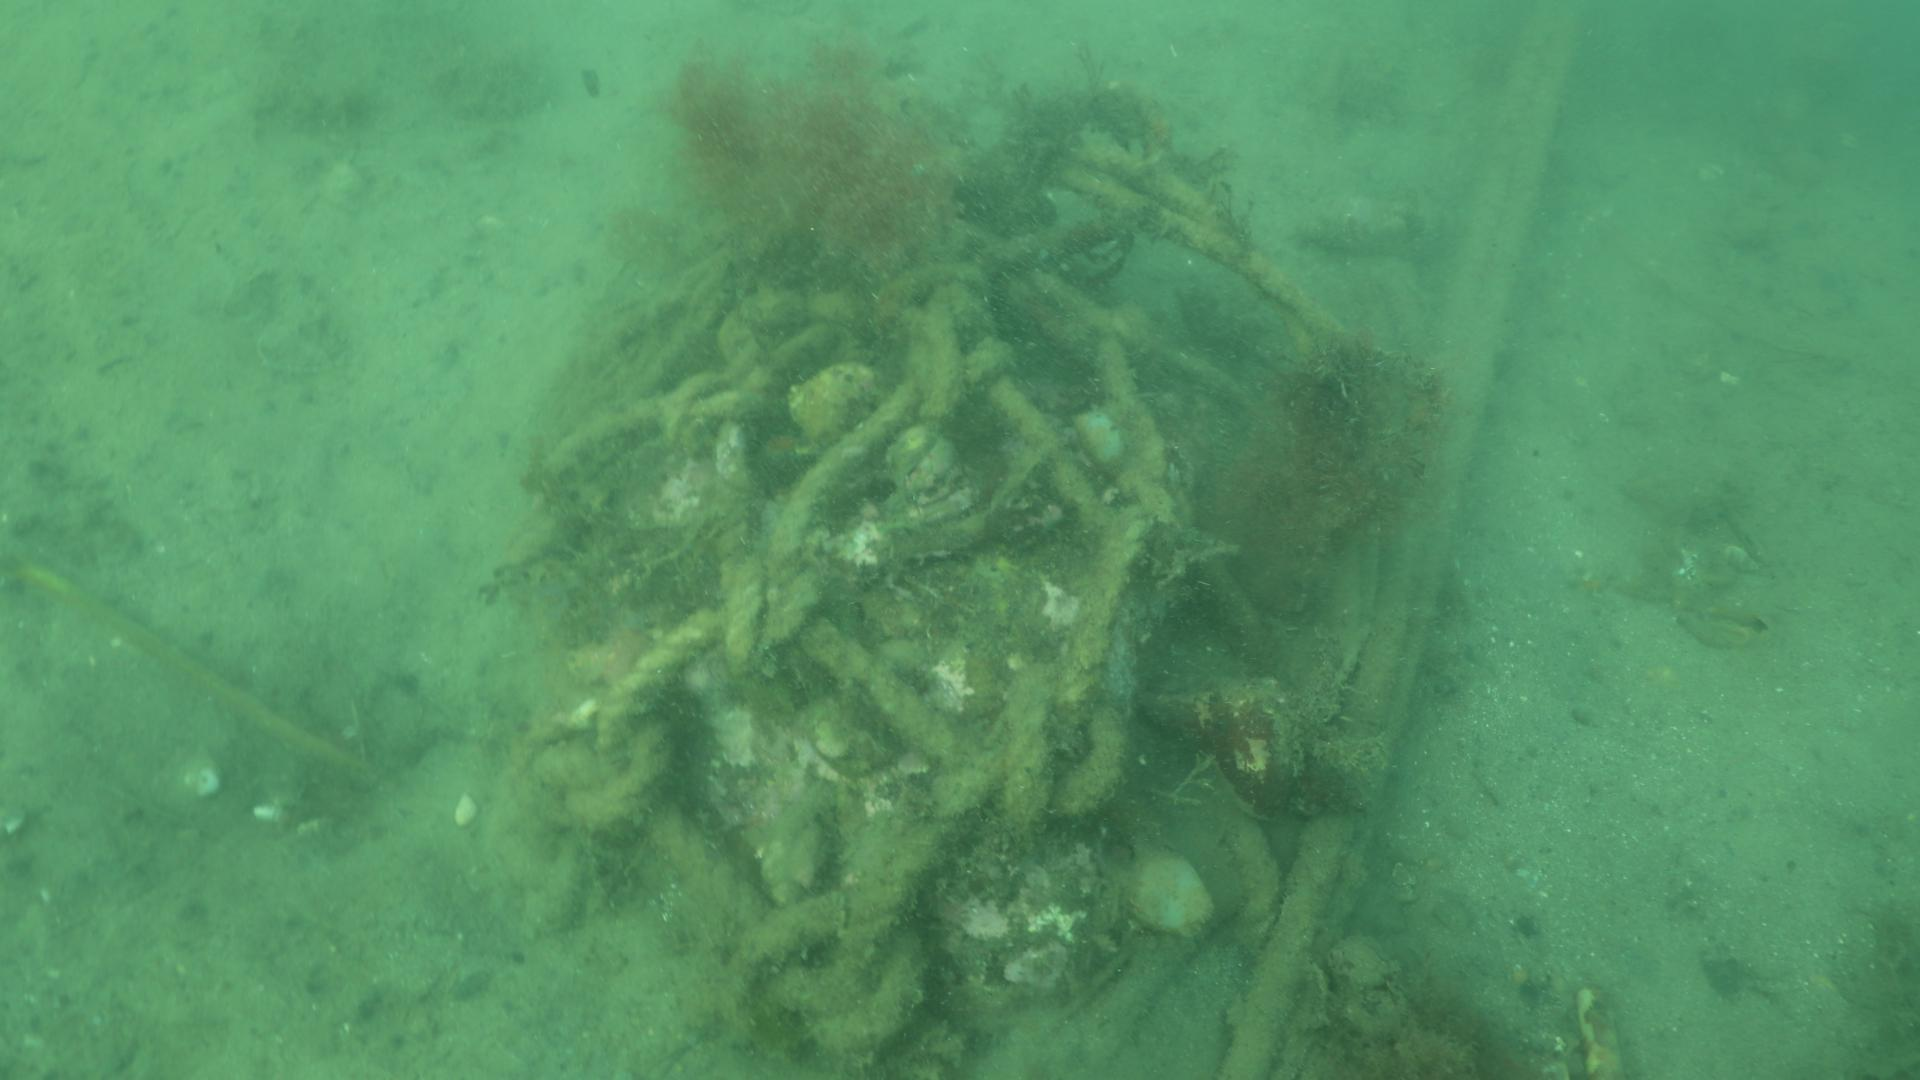bundle of ropes: (527, 115, 1360, 1080)
